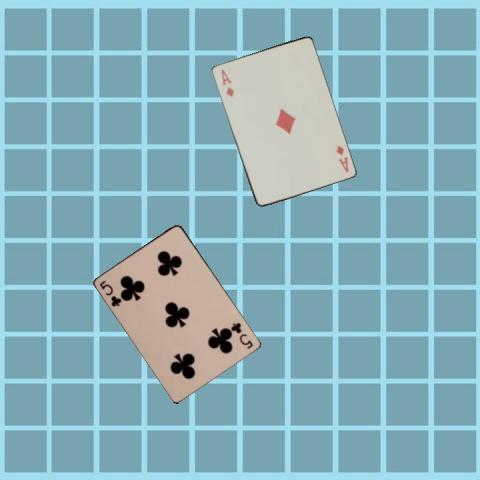5c: (228, 319, 255, 351), (97, 277, 123, 308)
Ad: (218, 66, 235, 99), (333, 142, 350, 174)
